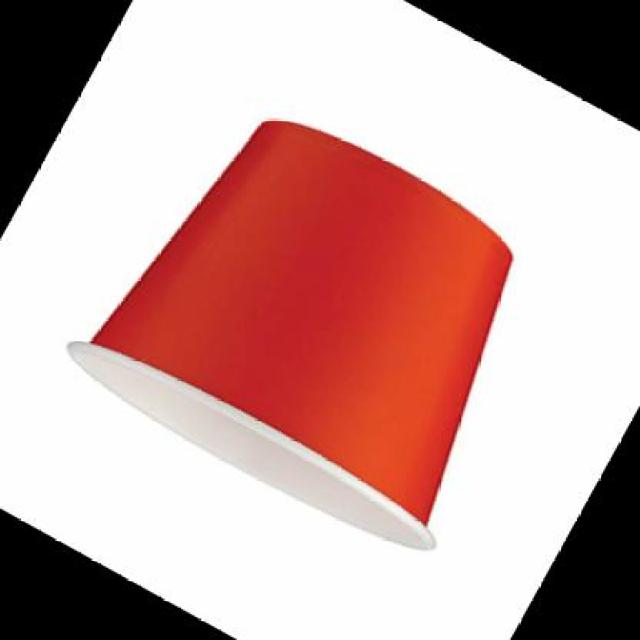non-biodegradable: (68, 68, 602, 578)
